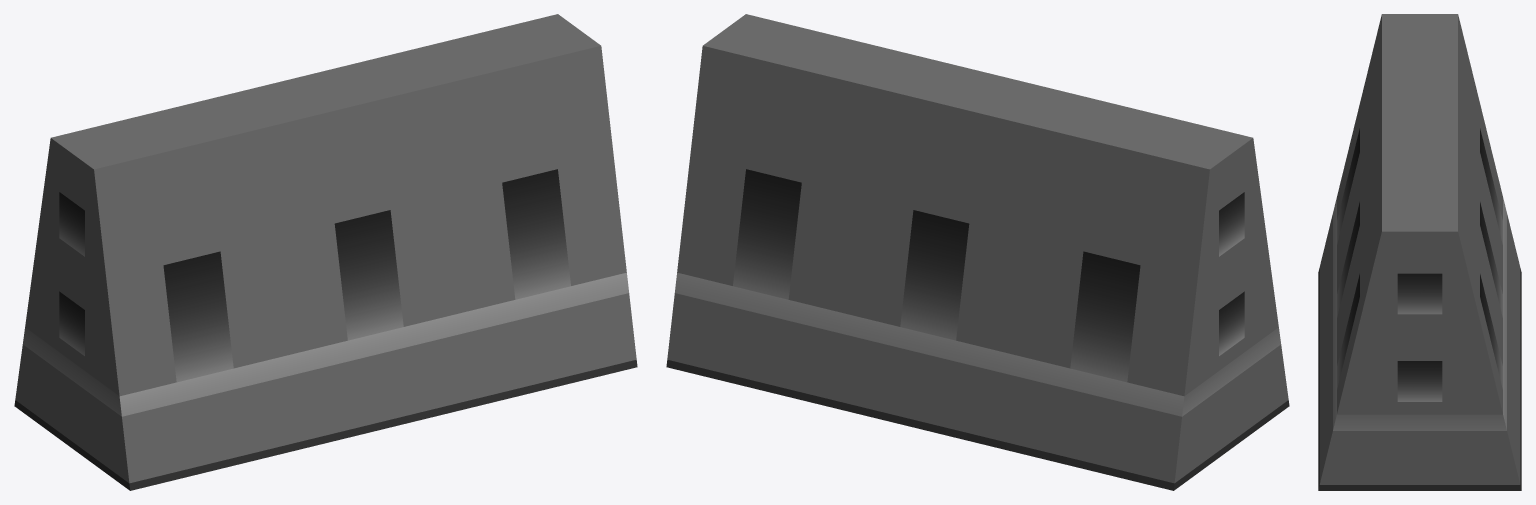
File: SM_Road_Barrier.FBX
The picture shows the model from 3 angles, left to right: view 1: azimuth 30°, elevation 25°; view 2: azimuth 150°, elevation 25°; view 3: azimuth 270°, elevation 25°; orthographic projection. The views are drawn at different scales.
Visible parts, largest first — view 1: SM_Road_Barrier; view 2: SM_Road_Barrier; view 3: SM_Road_Barrier.
Part boxes in pixels (bbox=[...]): SM_Road_Barrier: bbox=[14, 14, 637, 490]; SM_Road_Barrier: bbox=[666, 14, 1289, 490]; SM_Road_Barrier: bbox=[1318, 14, 1521, 490].
Size of what is drawn, in the model's own units: 180 by 71.18 by 100.
